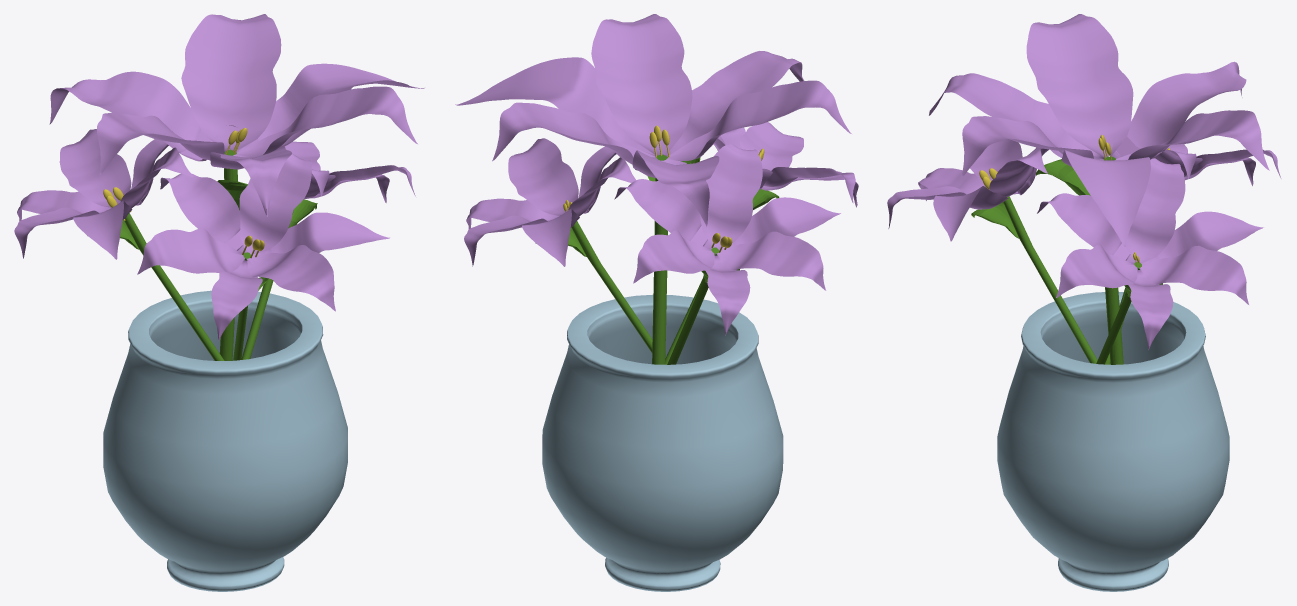
Rendered from flowers.fbx.
The picture shows the model from 3 angles, left to right: view 1: azimuth 30°, elevation 25°; view 2: azimuth 150°, elevation 25°; view 3: azimuth 270°, elevation 25°; orthographic projection.
Visible parts, largest first — view 1: Sphere, Cylinder; view 2: Sphere, Cylinder; view 3: Sphere, Cylinder.
Part boxes in pixels (x1=…): Sphere: x1=14, y1=14, x2=424, y2=360; Cylinder: x1=103, y1=290, x2=347, y2=591; Sphere: x1=455, y1=14, x2=858, y2=364; Cylinder: x1=542, y1=294, x2=783, y2=591; Sphere: x1=887, y1=14, x2=1281, y2=364; Cylinder: x1=997, y1=292, x2=1229, y2=591.
Bounding box in the file's own units: 472 × 570 × 420.
